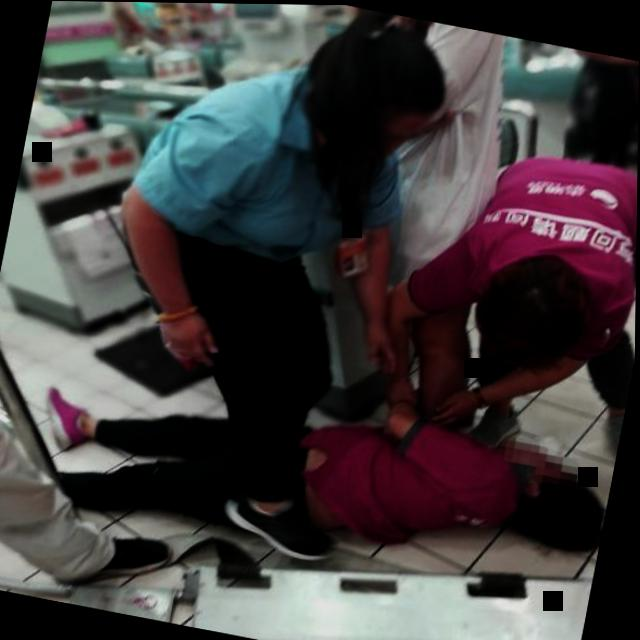Fall-Detected: (0, 296, 627, 613)
